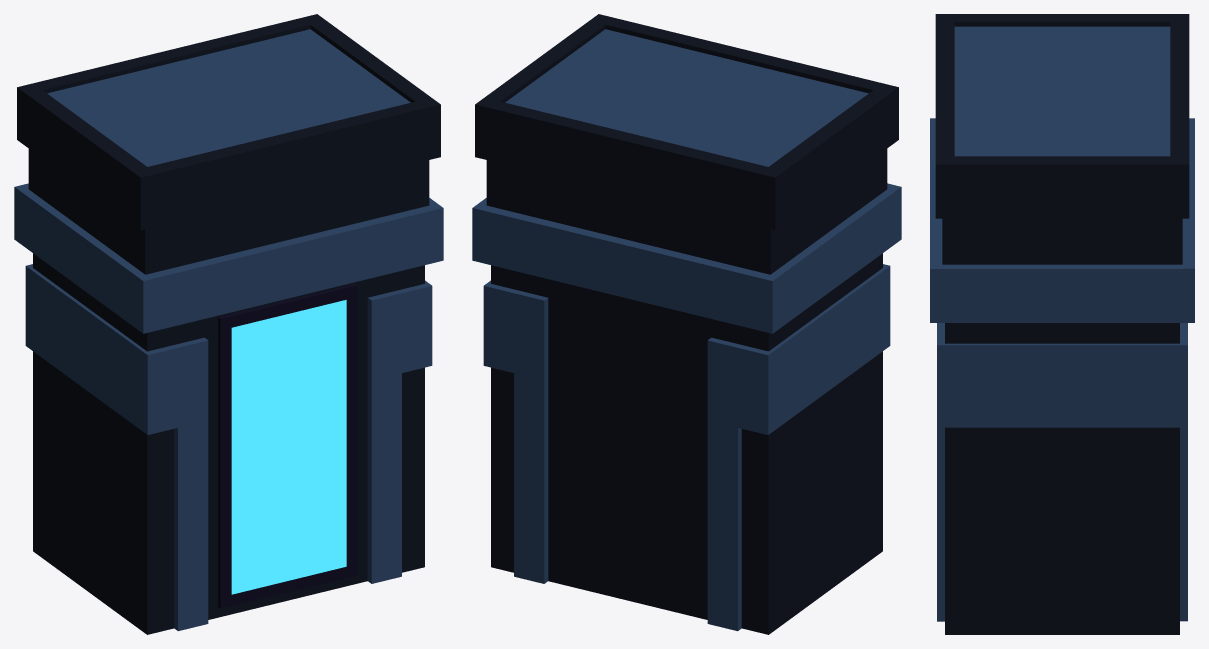
The model's file is Building2_l.fbx.
The picture shows the model from 3 angles, left to right: view 1: azimuth 30°, elevation 25°; view 2: azimuth 150°, elevation 25°; view 3: azimuth 270°, elevation 25°; orthographic projection. The views are drawn at different scales.
Parts seen in each view (by area): view 1: Cube.031; view 2: Cube.031; view 3: Cube.031.
Part boxes in pixels (x1,y1,x2,y2): Cube.031: (14, 14, 443, 634); Cube.031: (472, 14, 901, 634); Cube.031: (930, 14, 1194, 634).
Size of the model in its own units: 481 by 358 by 709.
